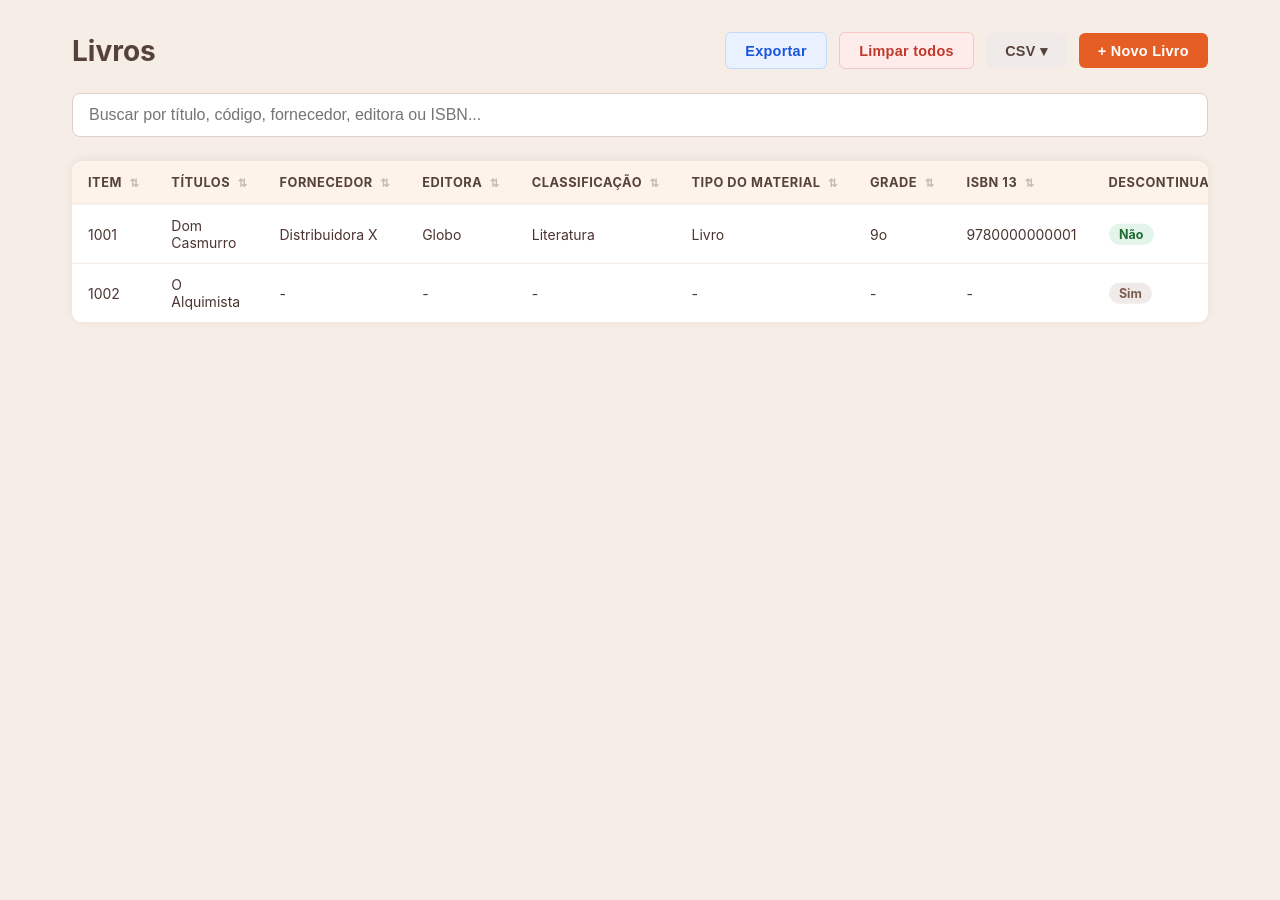
Test: Livros — exportação › abre modal de exportação ao clicar em Exportar
Click the button "Exportar": click(776, 51) 725,32 -> 827,69
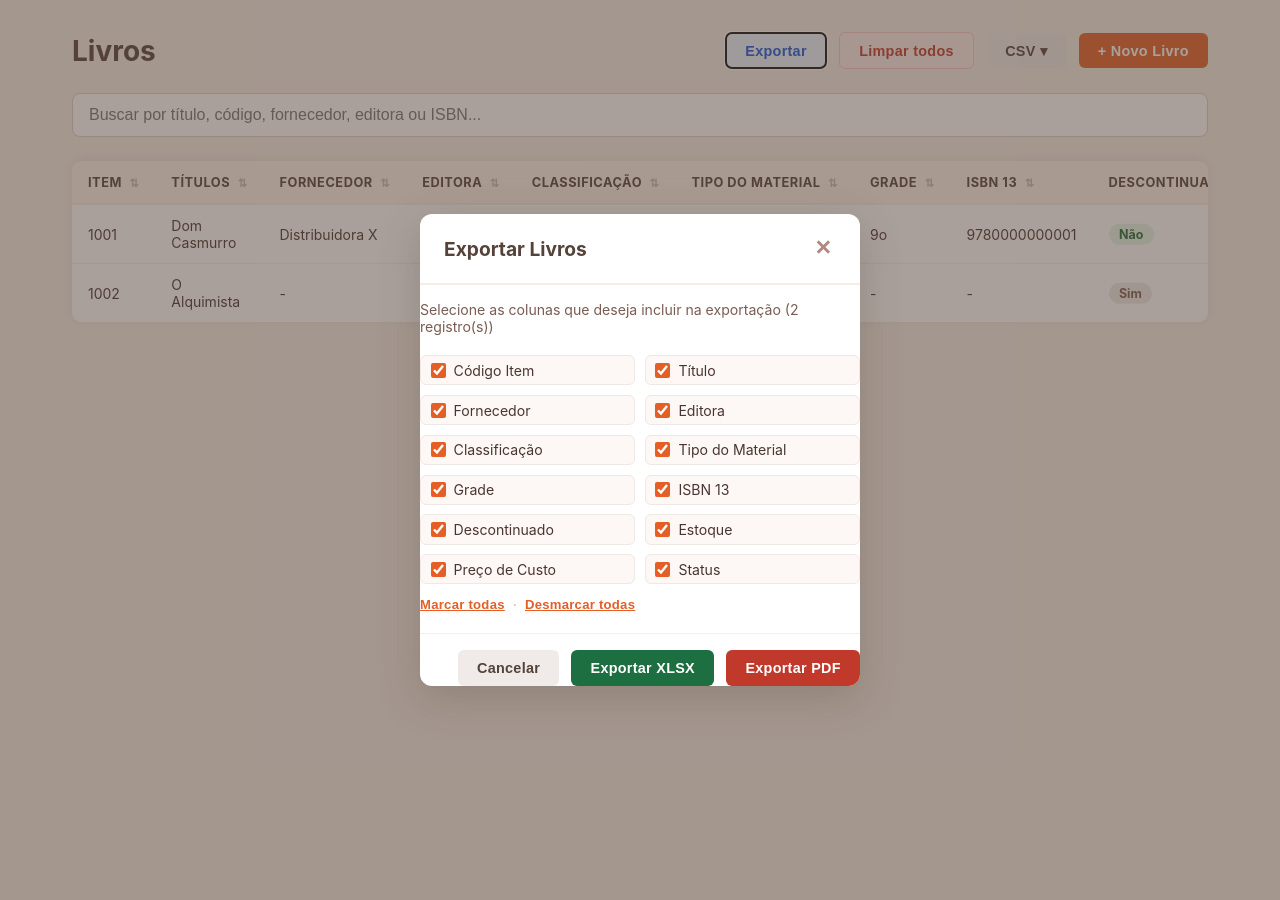
Now the heading "Exportar Livros" is shown, box 444,237 -> 587,261
